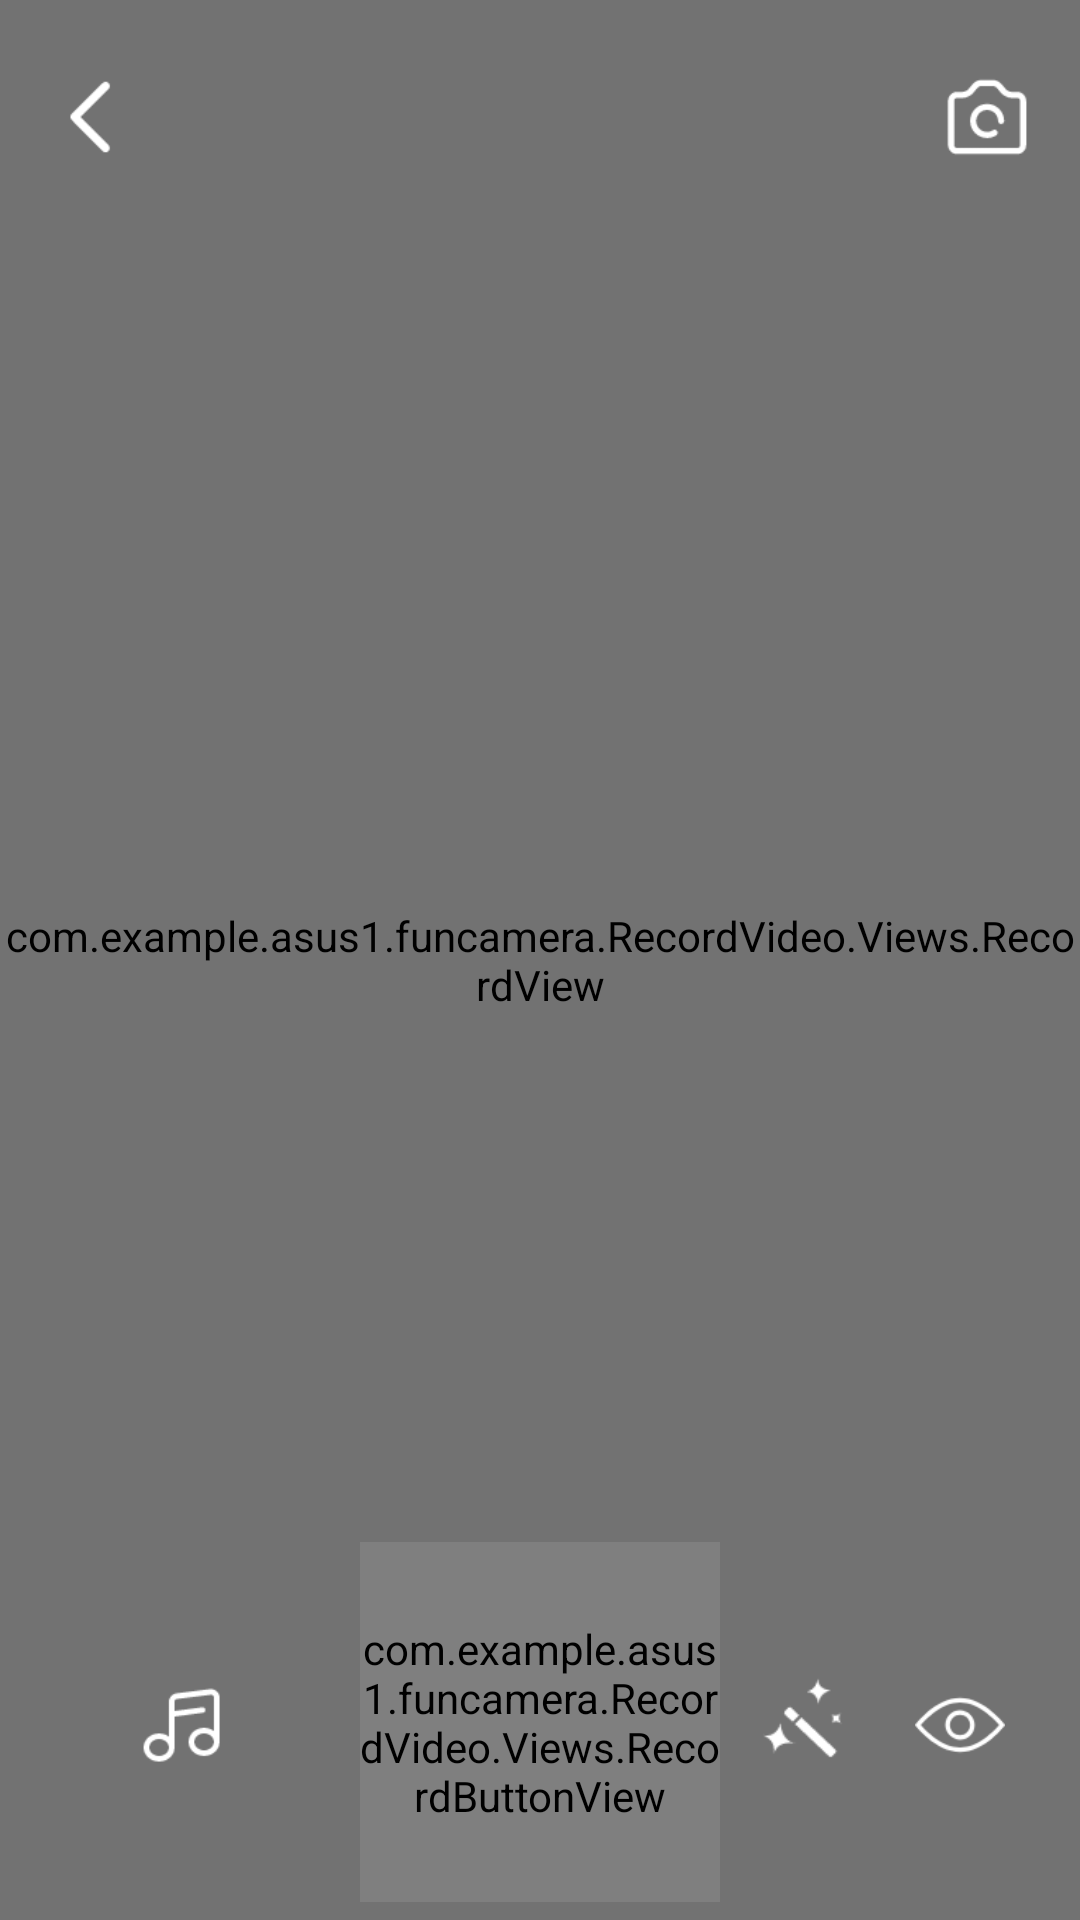

Named icons in this screenshot (1080px×1920px) and their bounding boxes, box=[x1, y1, x2, y2]:
back: box=[70, 81, 110, 153]
filter: box=[764, 1680, 841, 1757]
music: box=[143, 1688, 220, 1762]
see: box=[915, 1697, 1005, 1753]
